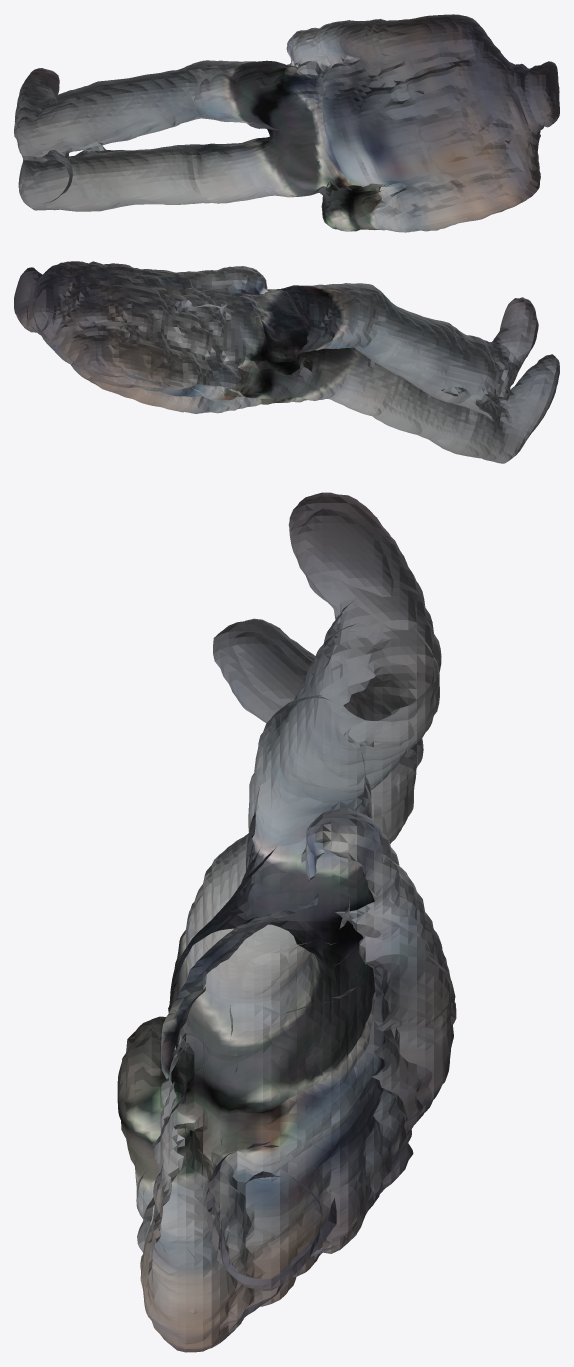
The picture shows the model from 3 angles, top to bottom: view 1: azimuth 30°, elevation 25°; view 2: azimuth 150°, elevation 25°; view 3: azimuth 270°, elevation 25°; orthographic projection. The views are drawn at different scales.
Parts seen in each view (by area): view 1: world; view 2: world; view 3: world.
Part boxes in pixels (left/top/right/bottom): world: left=14, top=14, right=559, bottom=232; world: left=14, top=261, right=559, bottom=463; world: left=117, top=492, right=456, bottom=1352.
Size of the model in its own units: 0.9471 by 0.3879 by 0.2702.
